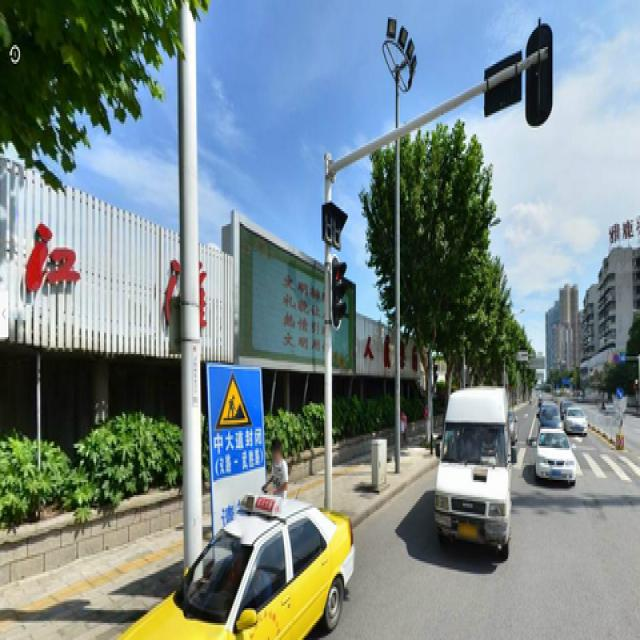meta: (387, 154, 462, 437)
